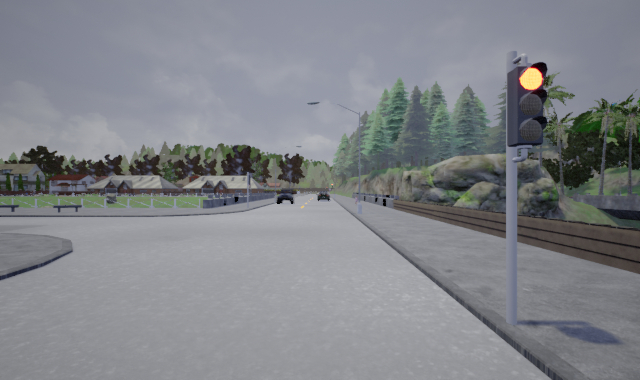traffic_light: (507, 61, 548, 148)
vehicle: (276, 189, 295, 204), (316, 192, 329, 202)
